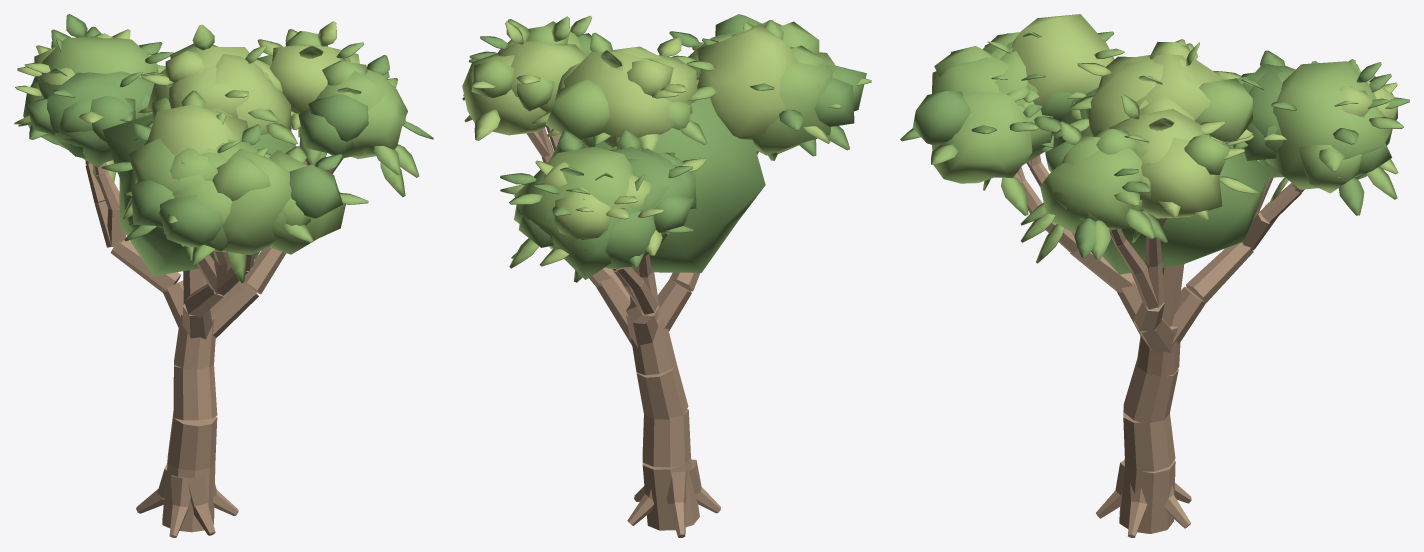
Rendered from Tree_4.gltf.
3 views of the same model, side by side, from view 1: azimuth 30°, elevation 25°; view 2: azimuth 150°, elevation 25°; view 3: azimuth 270°, elevation 25° (orthographic). The views are drawn at different scales.
Parts seen in each view (by area): view 1: Tree_4; view 2: Tree_4; view 3: Tree_4.
Boxes of the visible parts, x1,y1,x2,y2 form: Tree_4: (14, 14, 433, 537); Tree_4: (462, 14, 871, 537); Tree_4: (900, 14, 1409, 537).
Bounding box in the file's own units: 2.76 × 3.72 × 3.44.
